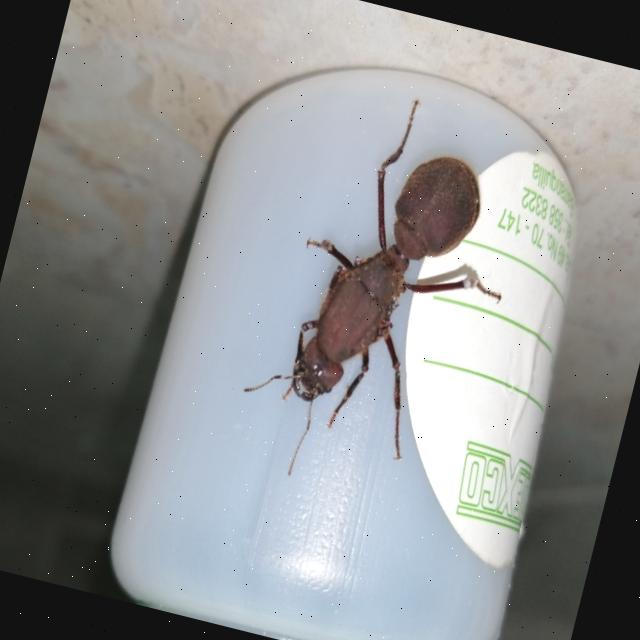Alive-Female-Dealate: (225, 74, 543, 515)
